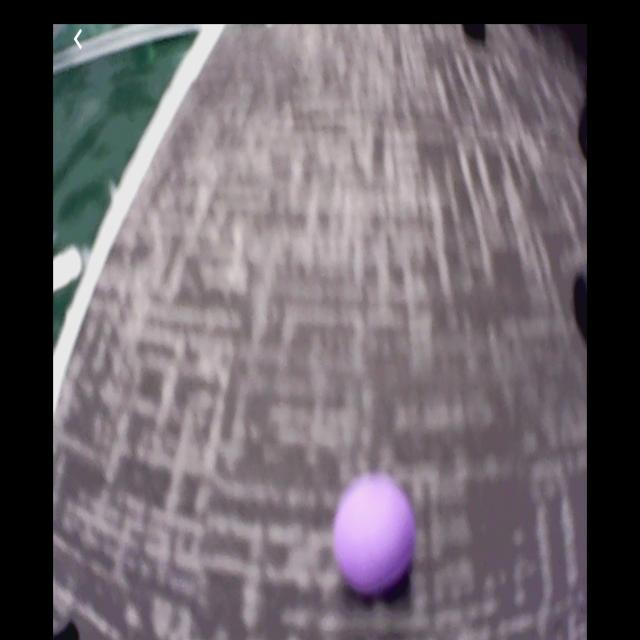ball: (335, 473, 414, 595)
